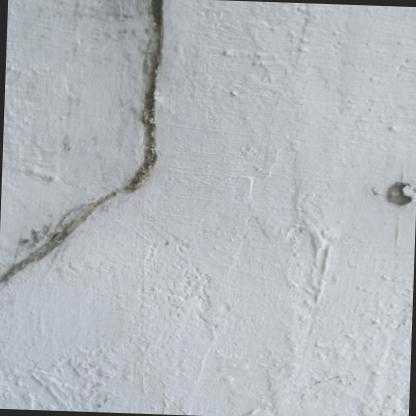crack: (0, 0, 169, 289)
